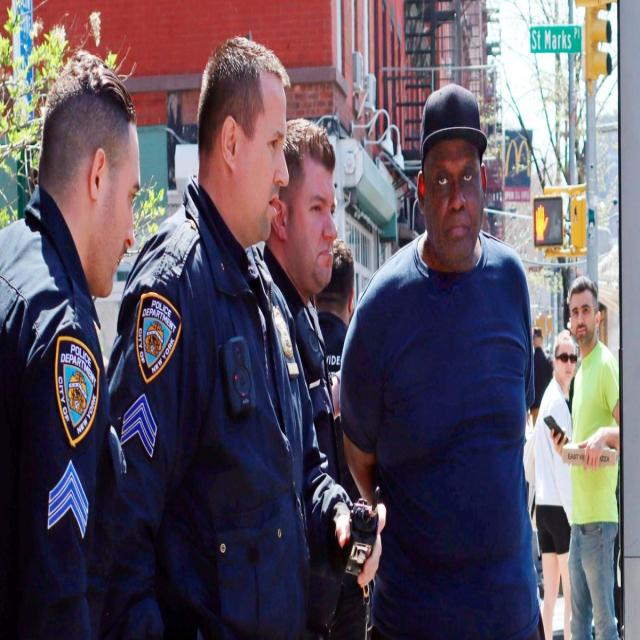police: (120, 29, 318, 640), (0, 67, 141, 639), (264, 102, 362, 640)
